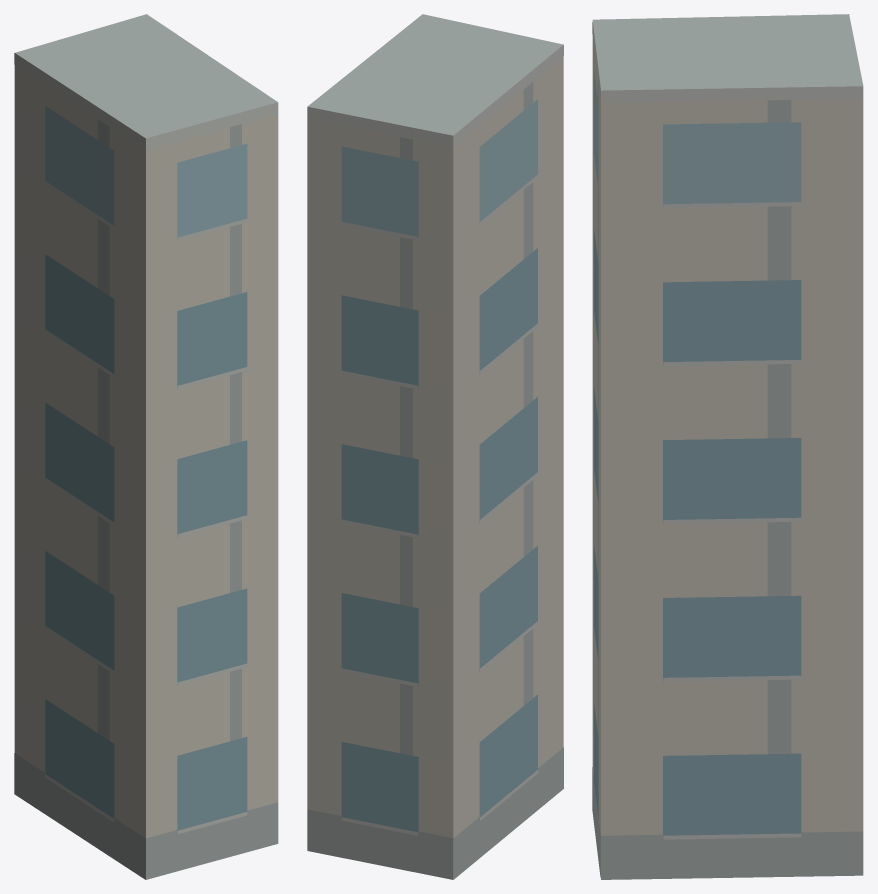
Rendered from survey-upis-32632484.glb.
3 renders of one model, left to right at view 1: azimuth 30°, elevation 25°; view 2: azimuth 150°, elevation 25°; view 3: azimuth 270°, elevation 25°, orthographic. The views are drawn at different scales.
Parts seen in each view (by area): view 1: survey-upis-32632484.tmp; view 2: survey-upis-32632484.tmp; view 3: survey-upis-32632484.tmp.
Part boxes in pixels (x1=…): survey-upis-32632484.tmp: x1=14, y1=14, x2=278, y2=879; survey-upis-32632484.tmp: x1=307, y1=14, x2=563, y2=879; survey-upis-32632484.tmp: x1=592, y1=14, x2=863, y2=879.
Size of the model in its own units: 3.18 by 15.25 by 4.76.
